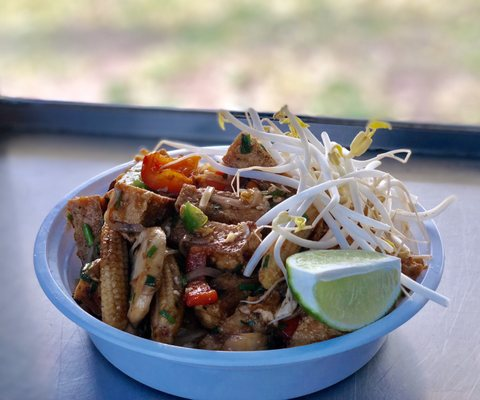sushi: (51, 145, 449, 395)
